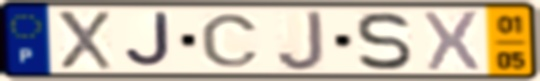C: (198, 12, 263, 69)
J: (274, 9, 327, 73), (122, 11, 175, 70)
S: (354, 10, 414, 72)
X: (421, 9, 482, 74), (53, 9, 115, 72)
